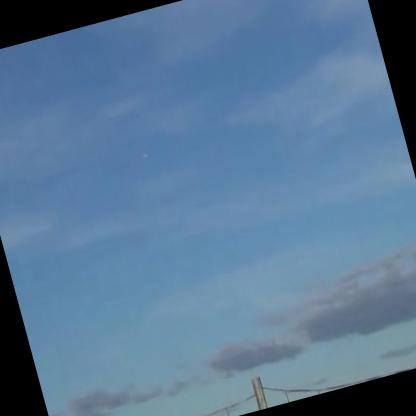plane: (140, 151, 150, 161)
